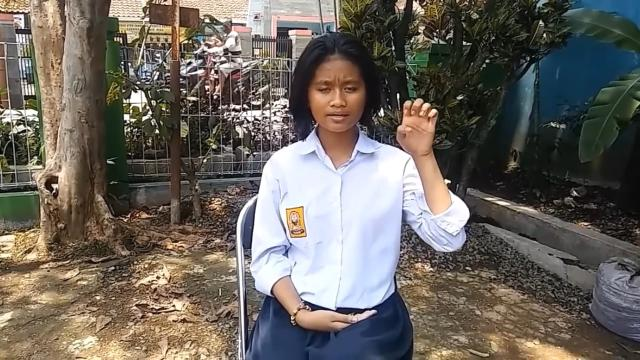E: (395, 97, 437, 155)
